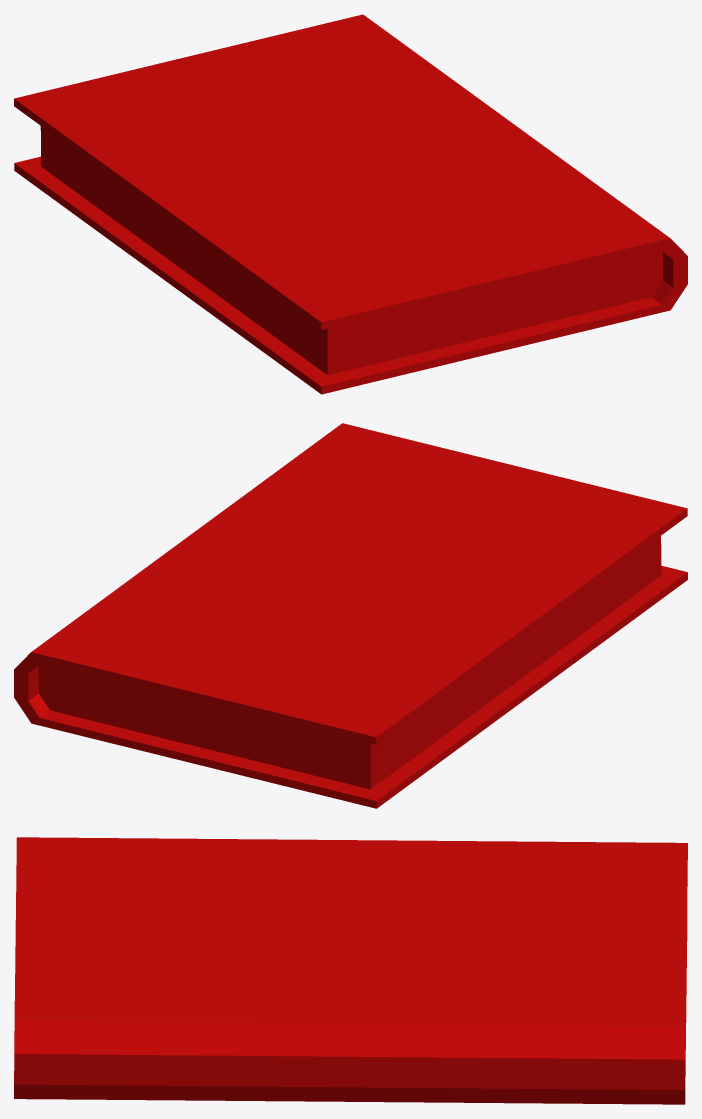
File: book.FBX
The picture shows the model from 3 angles, top to bottom: view 1: azimuth 30°, elevation 25°; view 2: azimuth 150°, elevation 25°; view 3: azimuth 270°, elevation 25°; orthographic projection. The views are drawn at different scales.
Visible parts, largest first — view 1: Object004; view 2: Object004; view 3: Object004.
Boxes of the visible parts, x1=… form: Object004: x1=14, y1=14, x2=687, y2=394; Object004: x1=14, y1=423, x2=687, y2=808; Object004: x1=14, y1=837, x2=687, y2=1104.
Size of the model in its own units: 2.68 by 3.93 by 0.528.
